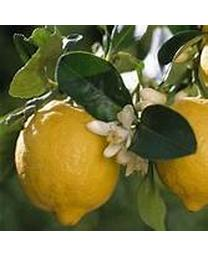lemon: (14, 100, 121, 227), (154, 95, 207, 209)
